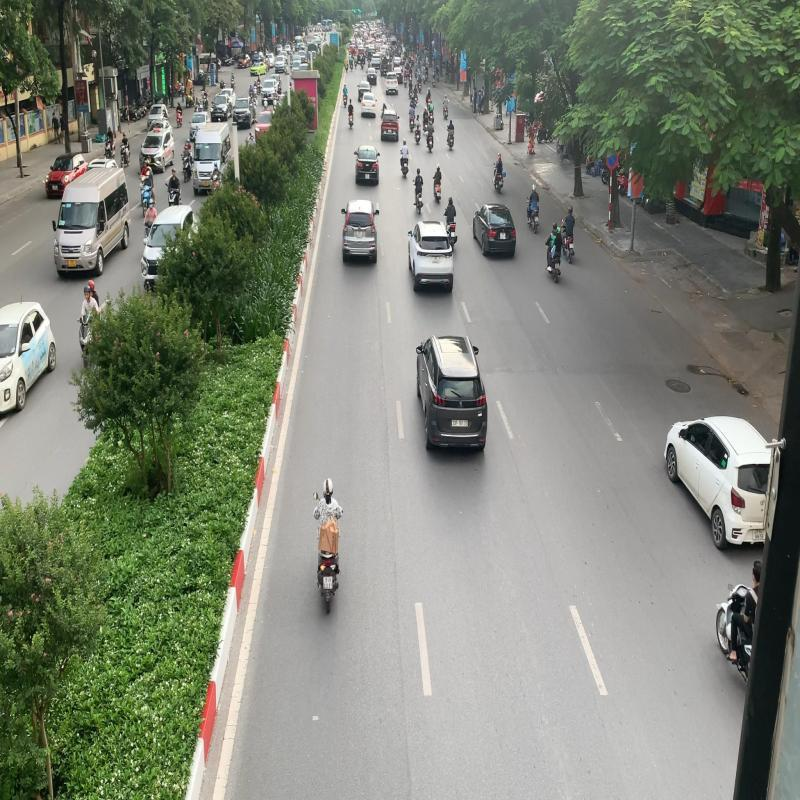helmet: (322, 477, 334, 495)
licenseplate: (322, 576, 333, 592)
motorcyclist: (312, 476, 344, 614)
